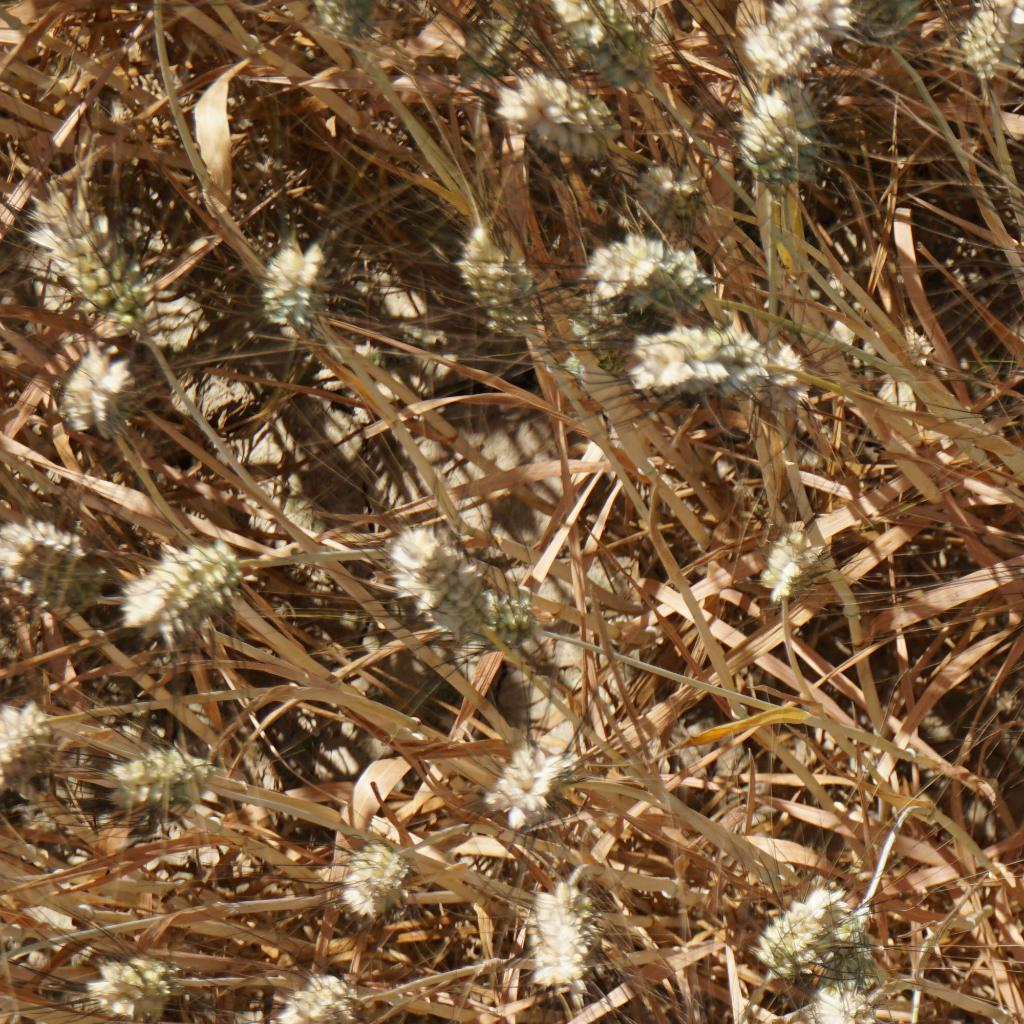0-0: (106, 523, 248, 657), (381, 494, 512, 622), (41, 206, 149, 326), (632, 309, 770, 401), (738, 870, 844, 970), (451, 234, 553, 334), (521, 866, 590, 1002), (330, 840, 435, 927), (500, 43, 600, 132), (740, 518, 844, 602), (478, 728, 572, 819), (590, 240, 720, 305), (92, 748, 224, 811), (84, 943, 185, 1024), (730, 90, 828, 173), (0, 500, 76, 606), (49, 332, 128, 427), (251, 236, 326, 330), (763, 0, 860, 72), (263, 958, 362, 1024), (950, 0, 1024, 80), (0, 706, 49, 770), (312, 0, 374, 44), (805, 980, 864, 1024)
